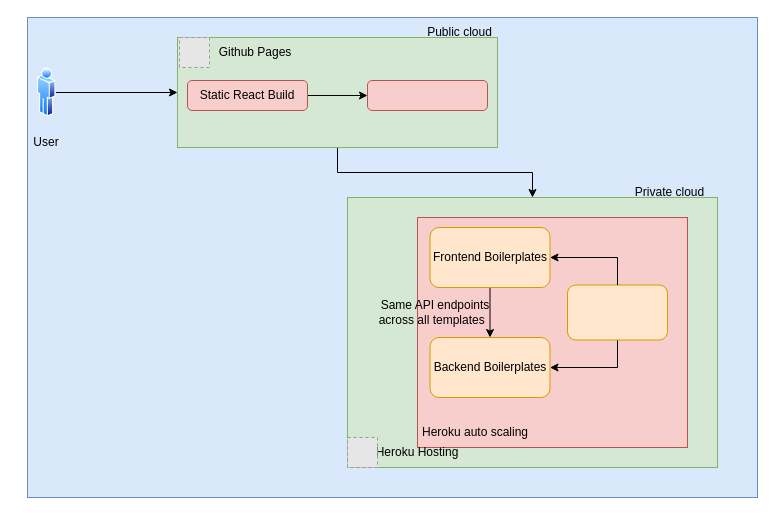
Image size: 776x515. Some labels were removed from this diagram. Grey dashed boxes stand in for pictures. The shapes that lost their labels are listed below. From the top down, each one's centre as x and y in pixels, then its label:
At [427,95]: "ReactJS Webapp".
At [617,312]: "Command Line Tool".
